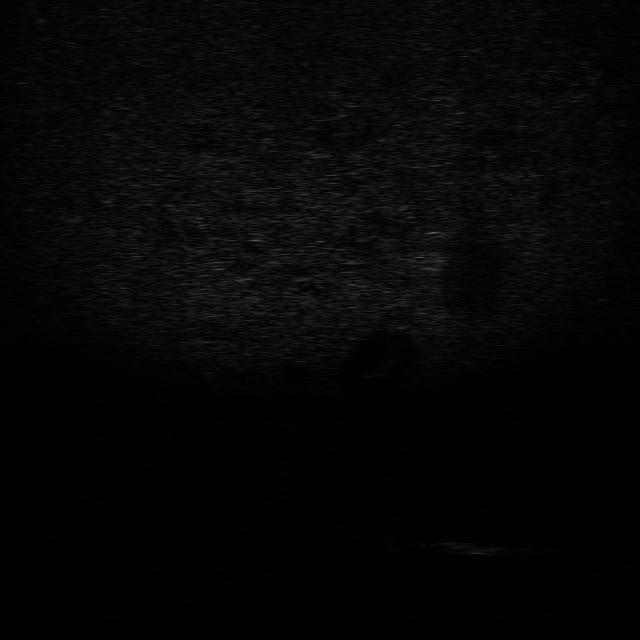ball: (272, 409, 314, 430)
metal bucket: (422, 536, 516, 560)
tyre: (342, 512, 407, 543)
